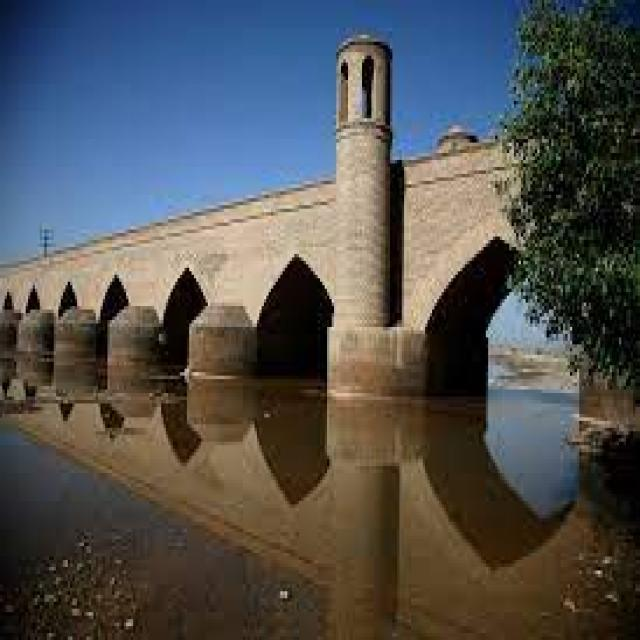Bridges: (0, 104, 640, 421)
